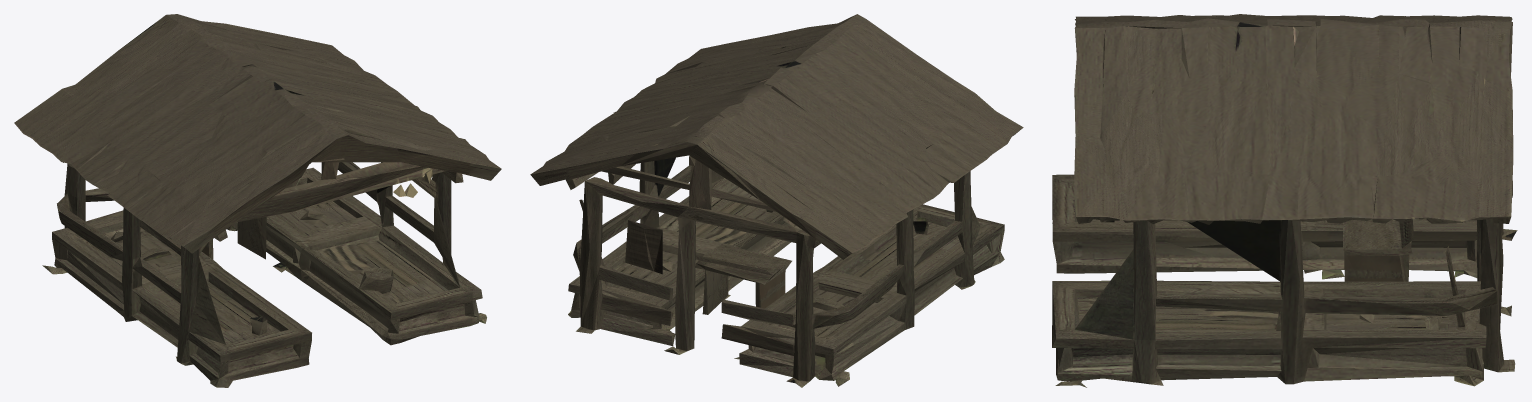
The model's file is herb_garden.glb.
3 views of the same model, side by side, from view 1: azimuth 30°, elevation 25°; view 2: azimuth 150°, elevation 25°; view 3: azimuth 270°, elevation 25° (orthographic). The views are drawn at different scales.
Bounding box in the file's own units: 1.9 × 1.21 × 1.82.
1 material, 1 textured.
